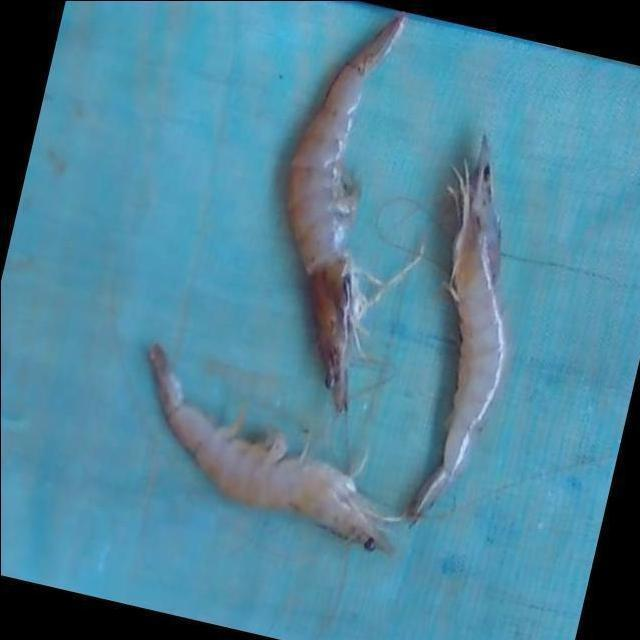shrimp: (149, 344, 391, 553), (288, 13, 406, 412), (408, 136, 508, 523)
